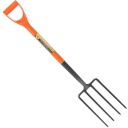fork: (3, 1, 128, 127)
